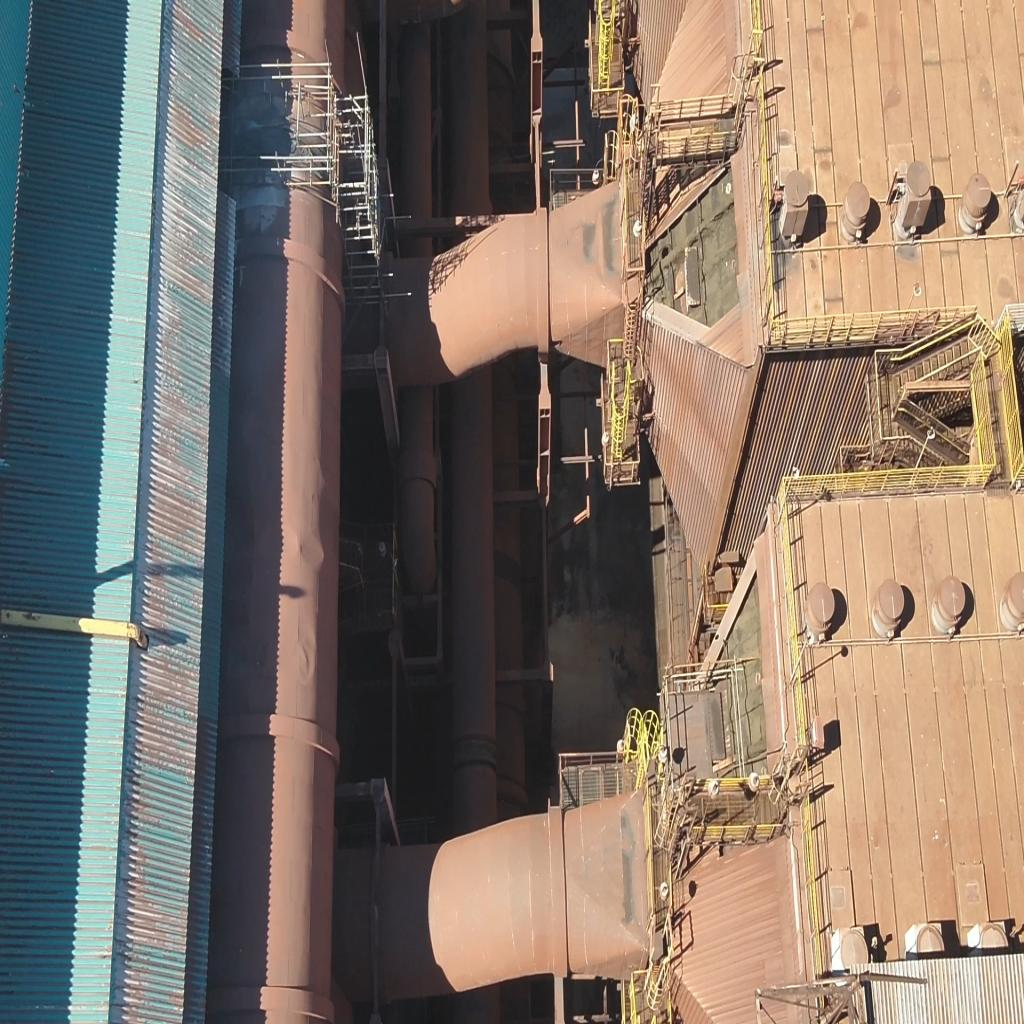Failures: (687, 572, 768, 804), (653, 158, 735, 327)
